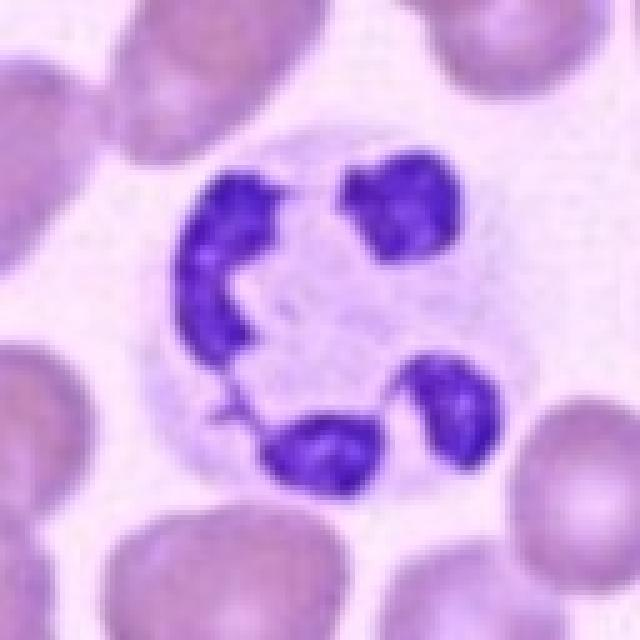neutro: (128, 126, 528, 507)
